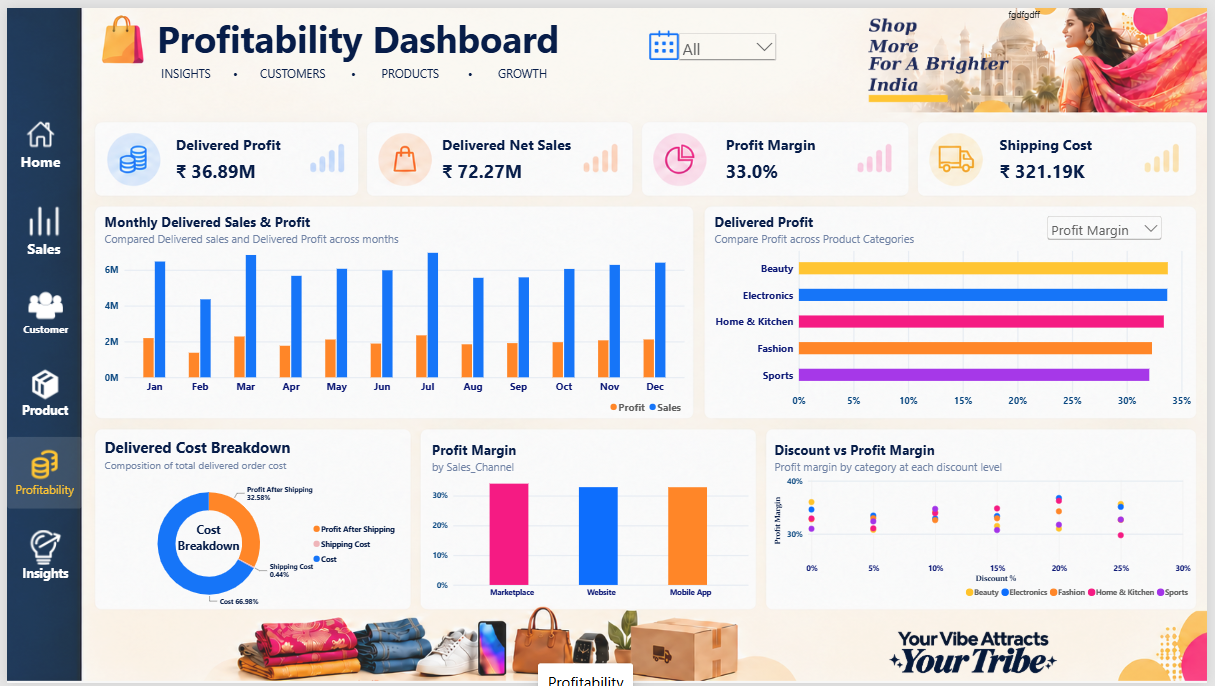

The page's visual inventory and layout, read from the dashboard file:
{"tool":"powerbi","page":{"name":"Profitability","canvas":[1920,1080],"ordinal":4},"visuals":[{"type":"actionButton","box":[8.9,562.2,102.2,108.9],"z":0},{"type":"actionButton","box":[0,685,120,115],"z":1000},{"type":"actionButton","box":[8.8,821.2,102.5,111.2],"z":2000},{"type":"actionButton","box":[8.9,433.3,102.2,106.7],"z":3000},{"type":"actionButton","box":[8.9,164.4,91.1,108.9],"z":4000},{"type":"actionButton","box":[8.9,304.4,102.2,106.7],"z":5000},{"type":"textbox","box":[240,8,672,136],"z":6000},{"type":"image","box":[1377.8,982.2,331.1,97.8],"z":7000},{"type":"image","box":[1377.8,8.9,224.4,137.8],"z":8000},{"type":"image","box":[1330,76,224.4,137.8],"z":9000},{"type":"cardVisual","fields":{"Data":["Sum(4_Profitability.Profit)"]},"box":[253.4,188.2,231.6,106.8],"z":10000},{"type":"cardVisual","fields":{"Data":["Sum(4_Profitability.Net_Sales)"]},"box":[680,188,252,106],"z":11000},{"type":"cardVisual","fields":{"Data":["4_Profitability.Delivered Profit Margin"]},"box":[1134,188,230,106],"z":12000},{"type":"cardVisual","fields":{"Data":["Sum(4_Profitability.Shipping_Cost)"]},"box":[1572,188,222,106],"z":13000},{"type":"clusteredColumnChart","title":"Monthly Delivered Sales & Profit","fields":{"Category":["4_Profitability.Short Month"],"Y":["Sum(4_Profitability.Profit)","Sum(4_Profitability.Net_Sales)"]},"box":[140,312.5,960,357.5],"z":14000},{"type":"clusteredBarChart","title":"Delivered Profit","fields":{"Category":["4_Profitability.Category"],"Y":["4_Profitability.Profit Margin"]},"box":[1115.7,311.4,794.3,347.1],"z":15000},{"type":"slicer","fields":{"Values":["Profit Metric.Profit Metric"]},"box":[1660,328,192,46],"z":16000},{"type":"donutChart","title":"Delivered Cost Breakdown","fields":{"Y":["4_Profitability.Profit After Shipping","Sum(4_Profitability.Shipping_Cost)","Sum(4_Profitability.Cost)"]},"box":[140,671.4,505.7,311.4],"z":17000},{"type":"textbox","box":[1602,0,192,150],"z":18000},{"type":"textbox","box":[265.7,821.4,112.9,111.4],"z":19000},{"type":"clusteredColumnChart","fields":{"Category":["4_Profitability.Sales_Channel"],"Y":["4_Profitability.Profit Margin"]},"box":[664.3,677.1,538.6,285.7],"z":20000},{"type":"scatterChart","title":"Discount vs Profit Margin","fields":{"Category":["4_Profitability.Discount_Pct"],"Series":["4_Profitability.Category"],"X":["4_Profitability.Discount %"],"Y":["4_Profitability.Profit Margin"]},"box":[1212,678,698,286],"z":21000},{"type":"slicer","fields":{"Values":["3_Product_Analytics.Order_Date.Variation.Date Hierarchy.Year"]},"box":[1070.5,35.5,165.5,49.5],"z":22000},{"type":"image","box":[1025,36,50,47.5],"z":23000}]}

Visuals, with their boxes on the page's 1920x1080 design canvas (x1, y1, x2, y2). These are canvas units, not pixel positions in the 1215x686 screenshot, which may show the page scaled, cropped or inside an application window:
actionButton: l=9, t=562, r=111, b=671
actionButton: l=0, t=685, r=120, b=800
actionButton: l=9, t=821, r=111, b=932
actionButton: l=9, t=433, r=111, b=540
actionButton: l=9, t=164, r=100, b=273
actionButton: l=9, t=304, r=111, b=411
textbox: l=240, t=8, r=912, b=144
image: l=1378, t=982, r=1709, b=1080
image: l=1378, t=9, r=1602, b=147
image: l=1330, t=76, r=1554, b=214
cardVisual - Sum(4_Profitability.Profit): l=253, t=188, r=485, b=295
cardVisual - Sum(4_Profitability.Net_Sales): l=680, t=188, r=932, b=294
cardVisual - 4_Profitability.Delivered Profit Margin: l=1134, t=188, r=1364, b=294
cardVisual - Sum(4_Profitability.Shipping_Cost): l=1572, t=188, r=1794, b=294
"Monthly Delivered Sales & Profit" clusteredColumnChart: l=140, t=312, r=1100, b=670
"Delivered Profit" clusteredBarChart: l=1116, t=311, r=1910, b=658
slicer - Profit Metric.Profit Metric: l=1660, t=328, r=1852, b=374
"Delivered Cost Breakdown" donutChart: l=140, t=671, r=646, b=983
textbox: l=1602, t=0, r=1794, b=150
textbox: l=266, t=821, r=379, b=933
clusteredColumnChart - 4_Profitability.Sales_Channel x 4_Profitability.Profit Margin: l=664, t=677, r=1203, b=963
"Discount vs Profit Margin" scatterChart: l=1212, t=678, r=1910, b=964
slicer - 3_Product_Analytics.Order_Date.Variation.Date Hierarchy.Year: l=1070, t=36, r=1236, b=85
image: l=1025, t=36, r=1075, b=84
